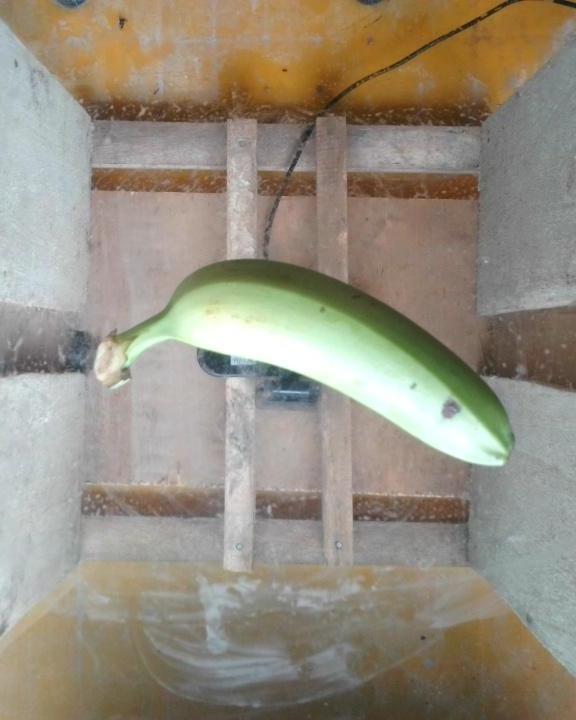CLASS B: (87, 255, 521, 474)
Class A: (434, 389, 463, 426), (403, 376, 429, 395)
